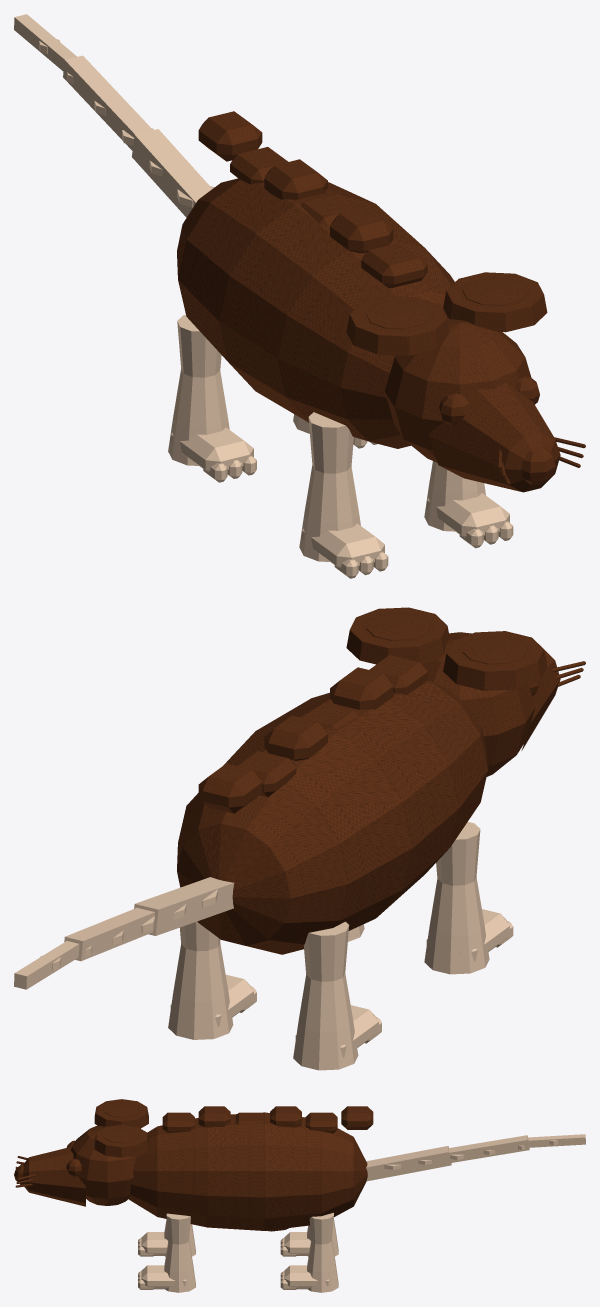
The model's file is fantasy-mmo-city-and-townsfolk-giant-sewer-rat-6c583512__32795.glb.
3 views of the same model, one above another, from view 1: azimuth 30°, elevation 25°; view 2: azimuth 150°, elevation 25°; view 3: azimuth 270°, elevation 25° (orthographic). The views are drawn at different scales.
Visible parts, largest first — view 1: torso, head, paw-fl, paw-bl, tail, paw-fr; view 2: torso, head, paw-bl, paw-fl, tail, paw-br; view 3: torso, head, tail, paw-fr, paw-br, paw-bl, paw-fl.
Boxes of the visible parts, left/top/right/bottom form: torso: left=177, top=111, right=454, bottom=448; head: left=346, top=272, right=585, bottom=492; paw-fl: left=299, top=412, right=388, bottom=578; paw-bl: left=168, top=314, right=256, bottom=482; tail: left=14, top=14, right=214, bottom=217; paw-fr: left=424, top=461, right=513, bottom=548; torso: left=177, top=655, right=487, bottom=954; head: left=346, top=607, right=585, bottom=776; paw-bl: left=293, top=921, right=381, bottom=1070; paw-fl: left=424, top=822, right=513, bottom=974; tail: left=14, top=877, right=234, bottom=989; paw-br: left=168, top=921, right=256, bottom=1039; torso: left=129, top=1106, right=373, bottom=1231; head: left=14, top=1099, right=148, bottom=1206; tail: left=366, top=1134, right=585, bottom=1181; paw-fr: left=138, top=1213, right=195, bottom=1292; paw-br: left=280, top=1212, right=338, bottom=1292; paw-bl: left=280, top=1218, right=338, bottom=1256; paw-fl: left=138, top=1219, right=195, bottom=1256.
Bounding box in the file's own units: 0.34 × 0.492 × 1.6.
Materials: 2 (1 with a texture image).
